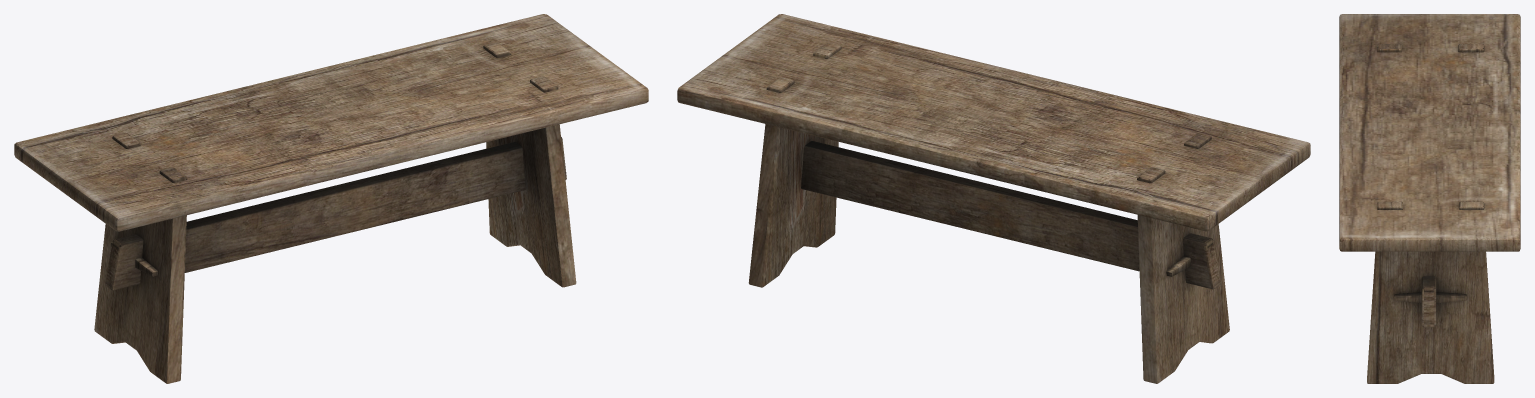
Rendered from bench-table.dae.
3 views of the same model, side by side, from view 1: azimuth 30°, elevation 25°; view 2: azimuth 150°, elevation 25°; view 3: azimuth 270°, elevation 25° (orthographic). The views are drawn at different scales.
Parts seen in each view (by area): view 1: base001; view 2: base001; view 3: base001.
Part boxes in pixels (x1,y1,x2,y2): base001: (14, 14, 648, 383); base001: (677, 14, 1310, 383); base001: (1339, 14, 1520, 383).
Size of the model in its own units: 2 by 0.6765 by 0.7078.
Materials: 1 (1 with a texture image).
